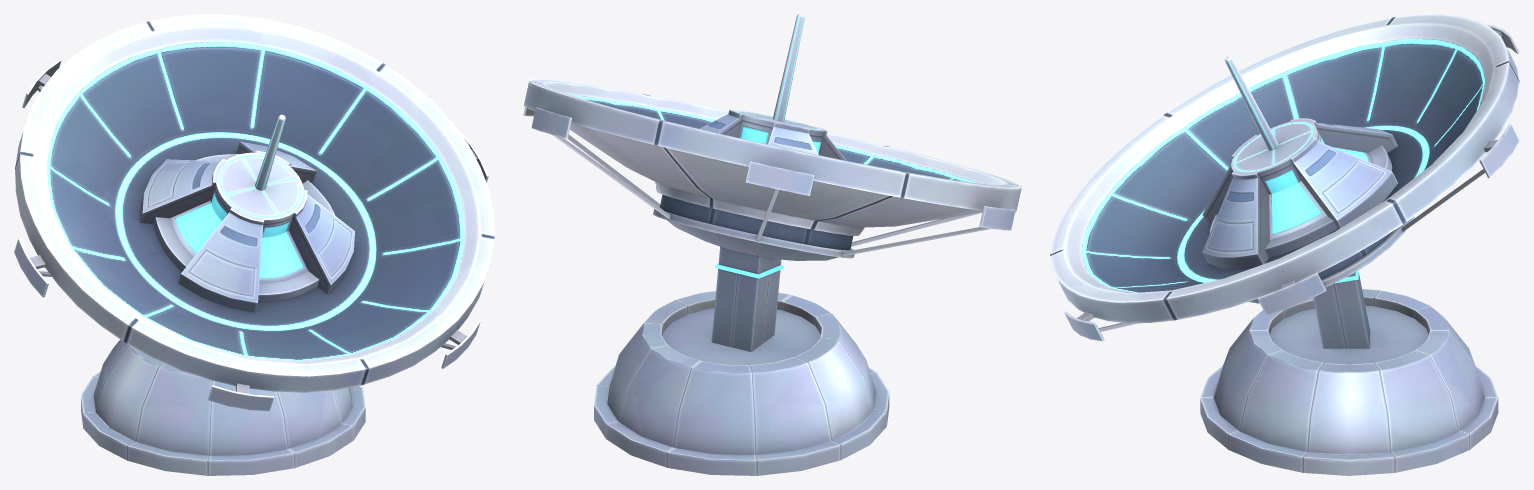
The model's file is obj_satellite.gltf.
3 views of the same model, side by side, from view 1: azimuth 30°, elevation 25°; view 2: azimuth 150°, elevation 25°; view 3: azimuth 270°, elevation 25° (orthographic). The views are drawn at different scales.
Visible parts, largest first — view 1: obj_satellite; view 2: obj_satellite; view 3: obj_satellite.
Part boxes in pixels (left/top/right/bottom): obj_satellite: left=14, top=14, right=494, bottom=475; obj_satellite: left=523, top=14, right=1021, bottom=475; obj_satellite: left=1050, top=14, right=1519, bottom=475.
Size of what is drawn, in the model's own units: 4.56 by 3.34 by 3.99.
Materials: 2 (2 with a texture image).
